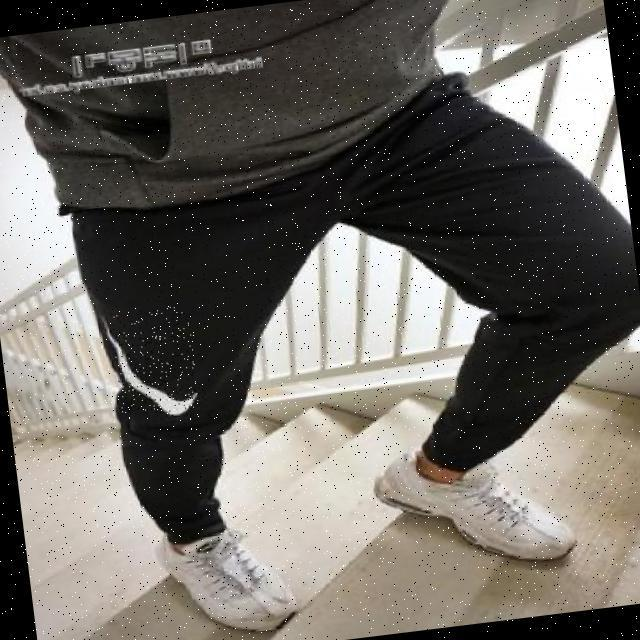Nike: (109, 304, 200, 417)
